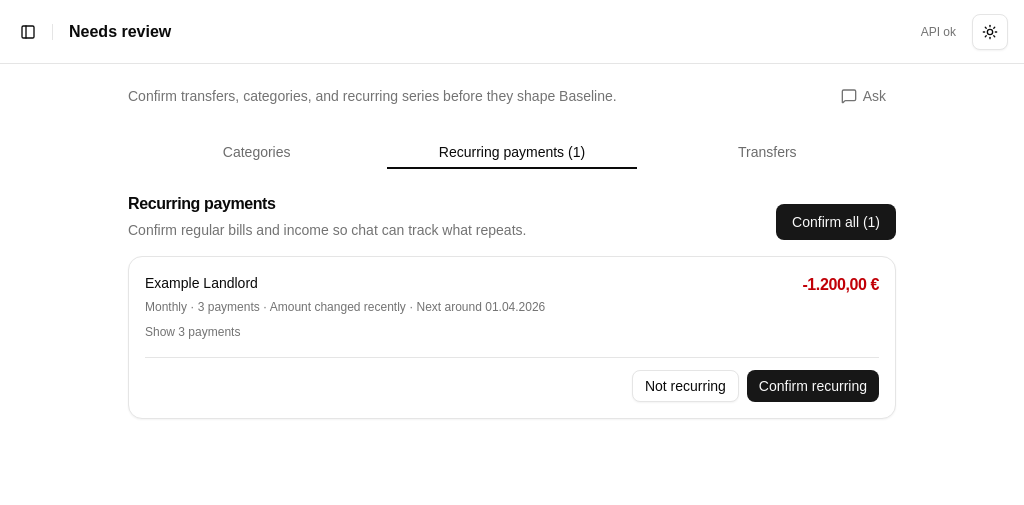
Needs review inbox › expands recurring sample payments
Expected: the text "Example Landlord" is shown, left=145, top=275, right=258, bottom=291
Click the button "Show 3 payments" at (193, 332), box left=145, top=324, right=240, bottom=340
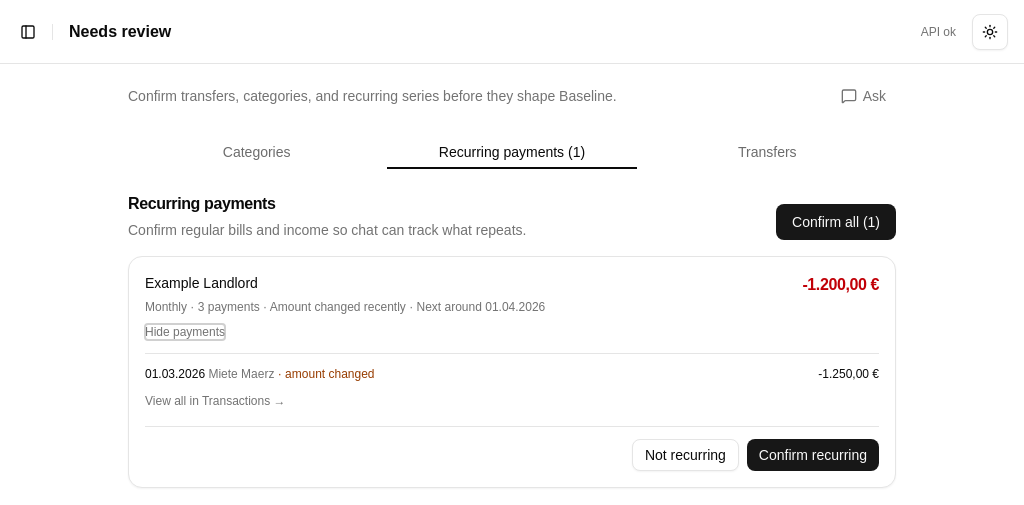
Now the text "01.03.2026 Miete Maerz · amount changed" is shown, box left=145, top=366, right=374, bottom=382
Now the link "View all in Transactions →" is shown, box left=145, top=393, right=286, bottom=409
